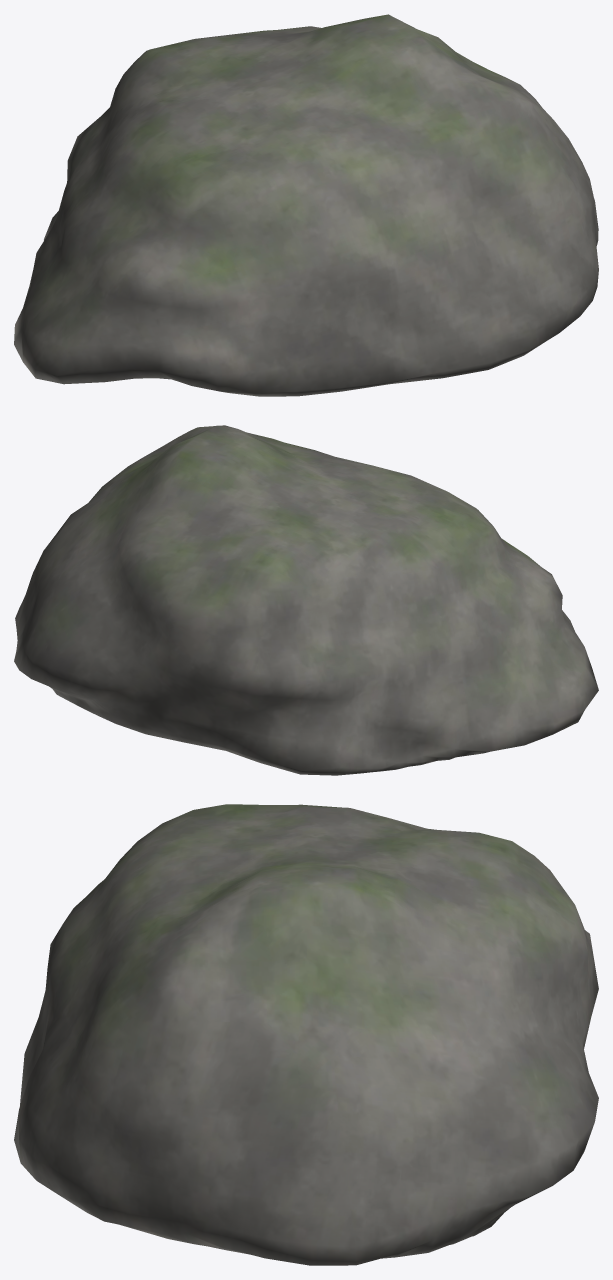
Rendered from veg-rock-boulder-177db9523089.glb.
3 views of the same model, one above another, from view 1: azimuth 30°, elevation 25°; view 2: azimuth 150°, elevation 25°; view 3: azimuth 270°, elevation 25° (orthographic). The views are drawn at different scales.
Parts seen in each view (by area): view 1: veg-rock-boulder; view 2: veg-rock-boulder; view 3: veg-rock-boulder.
Part boxes in pixels (x1,y1,x2,y2): veg-rock-boulder: (14, 14, 598, 396); veg-rock-boulder: (14, 425, 598, 775); veg-rock-boulder: (14, 804, 598, 1265).
Bounding box in the file's own units: 1.78 × 0.78 × 1.32.
Materials: 1 (1 with a texture image).
